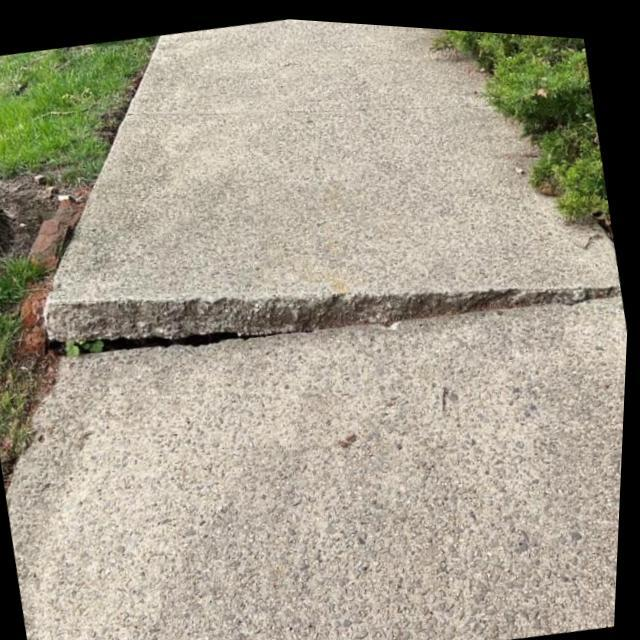hole: (4, 225, 340, 418)
